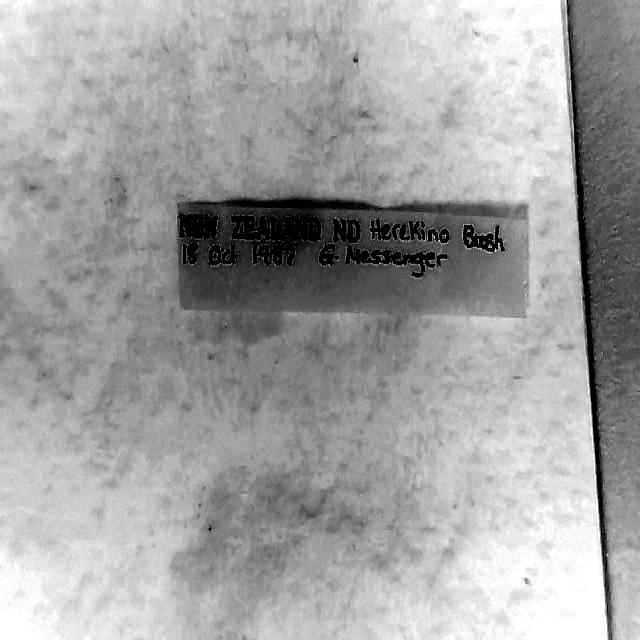mixed_label: (178, 206, 528, 316)
